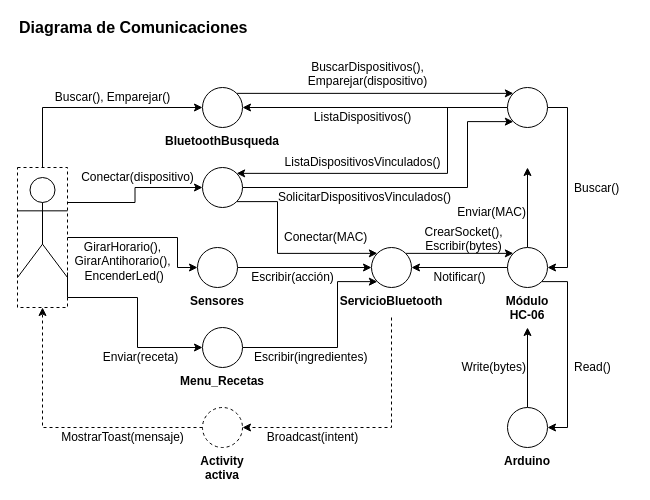
Image size: 650x500. Some labels were removed from this diagram. The box of each missing label's shape, as (x1, y1, x2, y2) in pixels:
BluetoothConectar: (202, 166, 242, 208)
Sistema Operativo: (506, 86, 548, 128)
Usuario: (16, 176, 68, 278)
